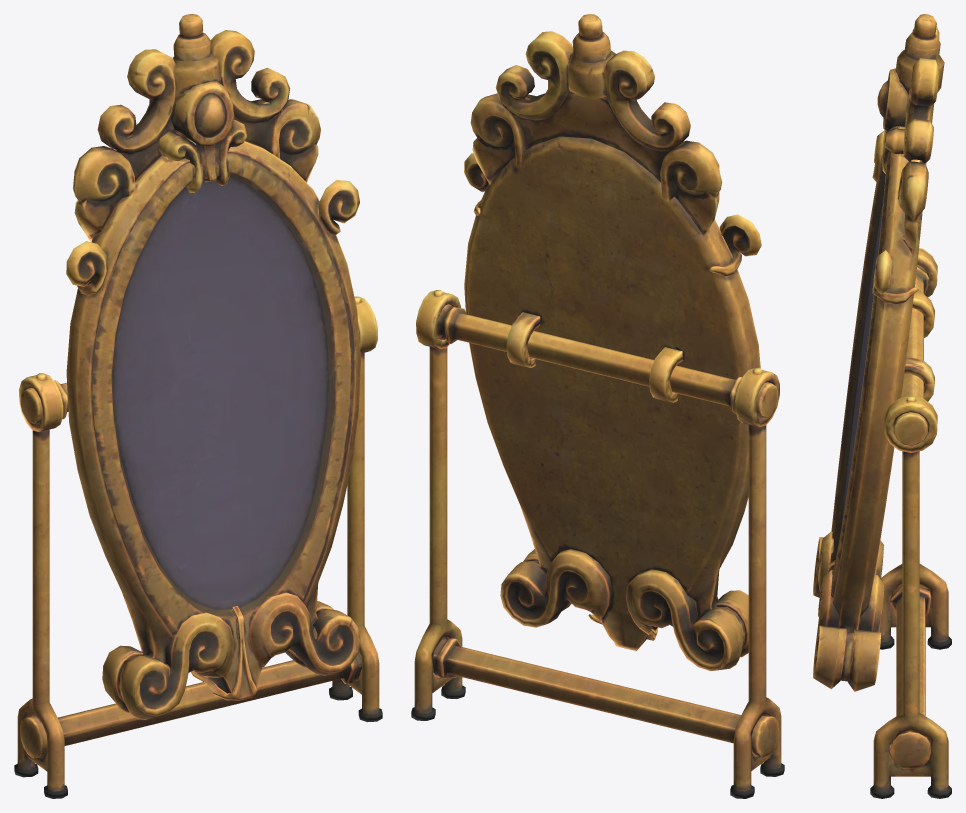
3 renders of one model, left to right at view 1: azimuth 30°, elevation 25°; view 2: azimuth 150°, elevation 25°; view 3: azimuth 270°, elevation 25°, orthographic. The views are drawn at different scales.
Visible parts, largest first — view 1: SM_Magic_Mirror_LOD0; view 2: SM_Magic_Mirror_LOD0; view 3: SM_Magic_Mirror_LOD0.
Boxes of the visible parts, x1=… form: SM_Magic_Mirror_LOD0: x1=14, y1=14, x2=382, y2=798; SM_Magic_Mirror_LOD0: x1=411, y1=14, x2=784, y2=798; SM_Magic_Mirror_LOD0: x1=813, y1=14, x2=951, y2=798.
Size of the model in its own units: 1.16 by 2.36 by 0.4226.
1 material, 1 textured.
